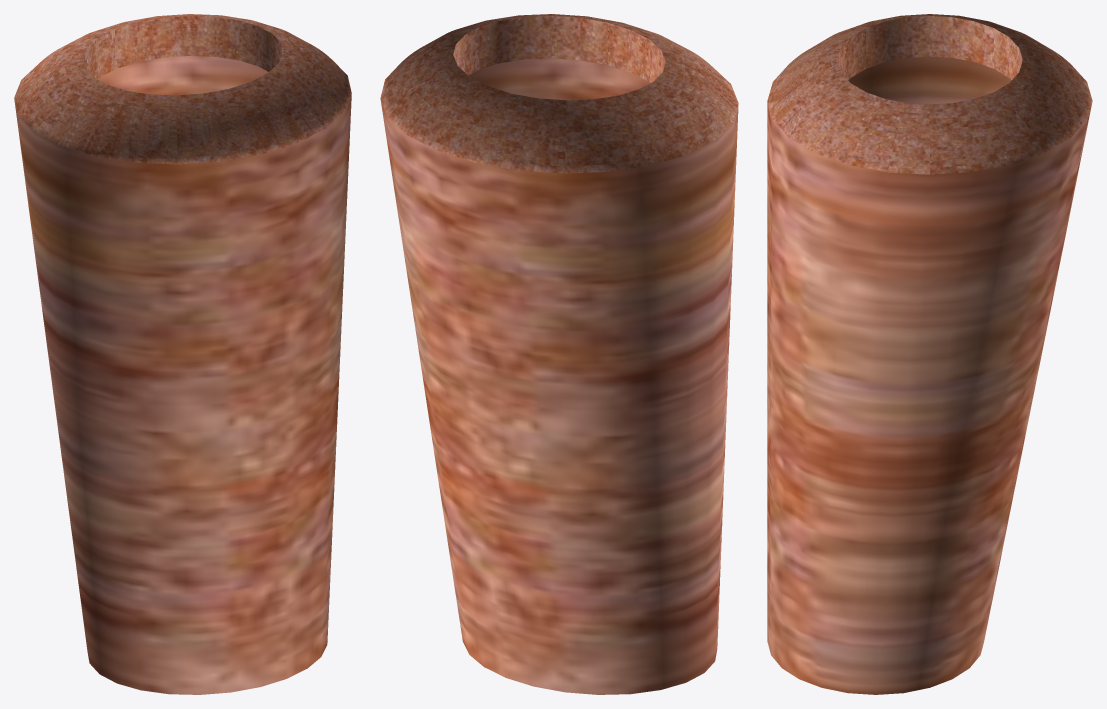
The model's file is trompo2.obj.
The picture shows the model from 3 angles, left to right: view 1: azimuth 30°, elevation 25°; view 2: azimuth 150°, elevation 25°; view 3: azimuth 270°, elevation 25°; orthographic projection. The views are drawn at different scales.
Parts seen in each view (by area): view 1: trompo2; view 2: trompo2; view 3: trompo2.
Part boxes in pixels (<box>): trompo2: <box>14,14,351,694</box>; trompo2: <box>380,14,738,694</box>; trompo2: <box>767,14,1092,694</box>.
Size of the model in its own units: 1.85 by 3.39 by 1.72.
